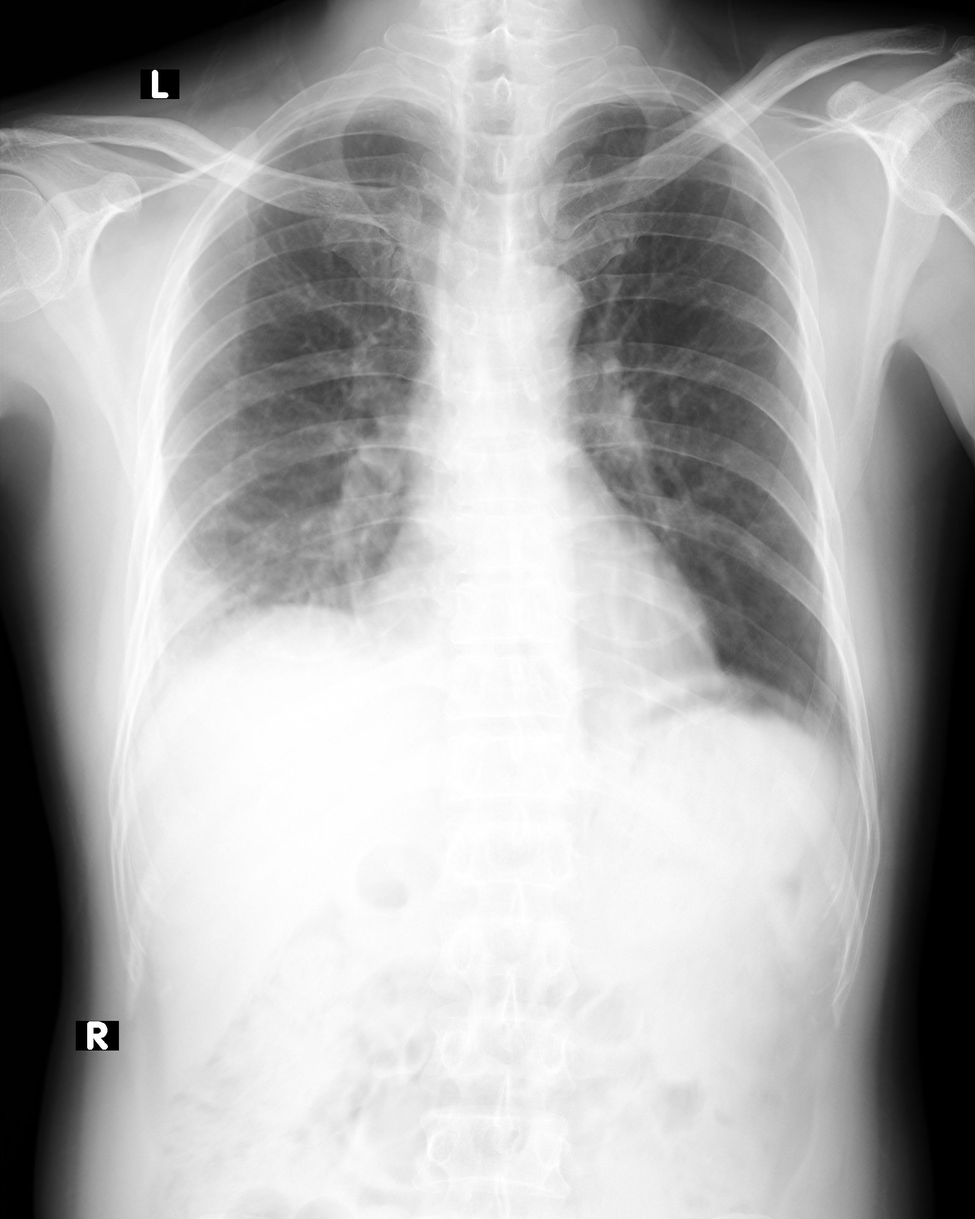Cardiomegaly: (352, 555, 723, 701)
Pleural thickening: (276, 95, 391, 143), (603, 93, 718, 126)
